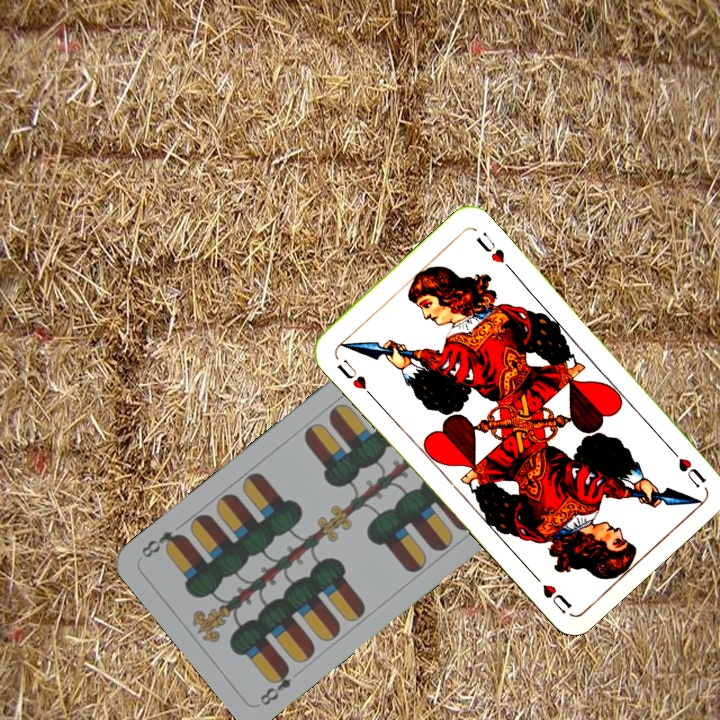E8: (255, 661, 294, 708)
HU: (664, 442, 709, 491), (332, 355, 369, 393)
